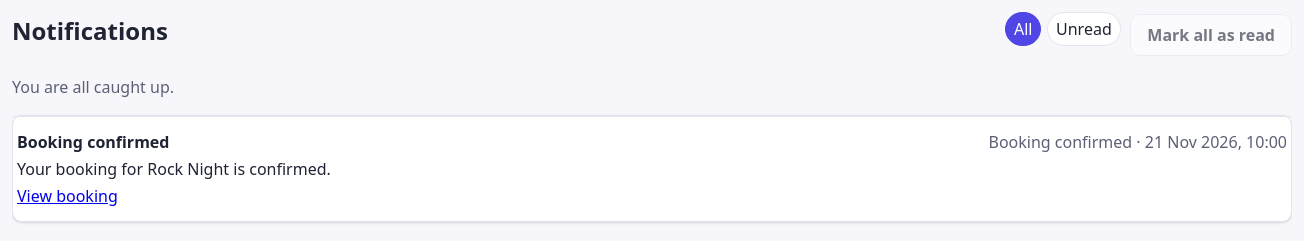
Test: NotificationsPage › filters unread only and shows an empty state
Expected: the text "Booking confirmed" is shown, [17,130,169,154]
Click the button "Unread": {"x": 1084, "y": 29} [1047,12,1121,46]
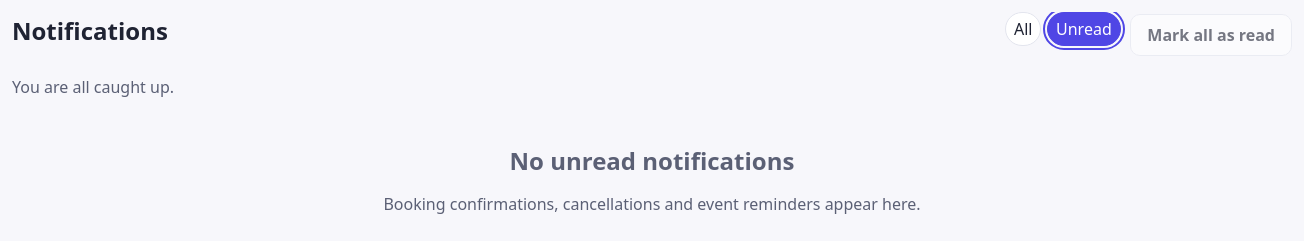
Result: the heading "No unread notifications" is shown at [510,144,794,177]
